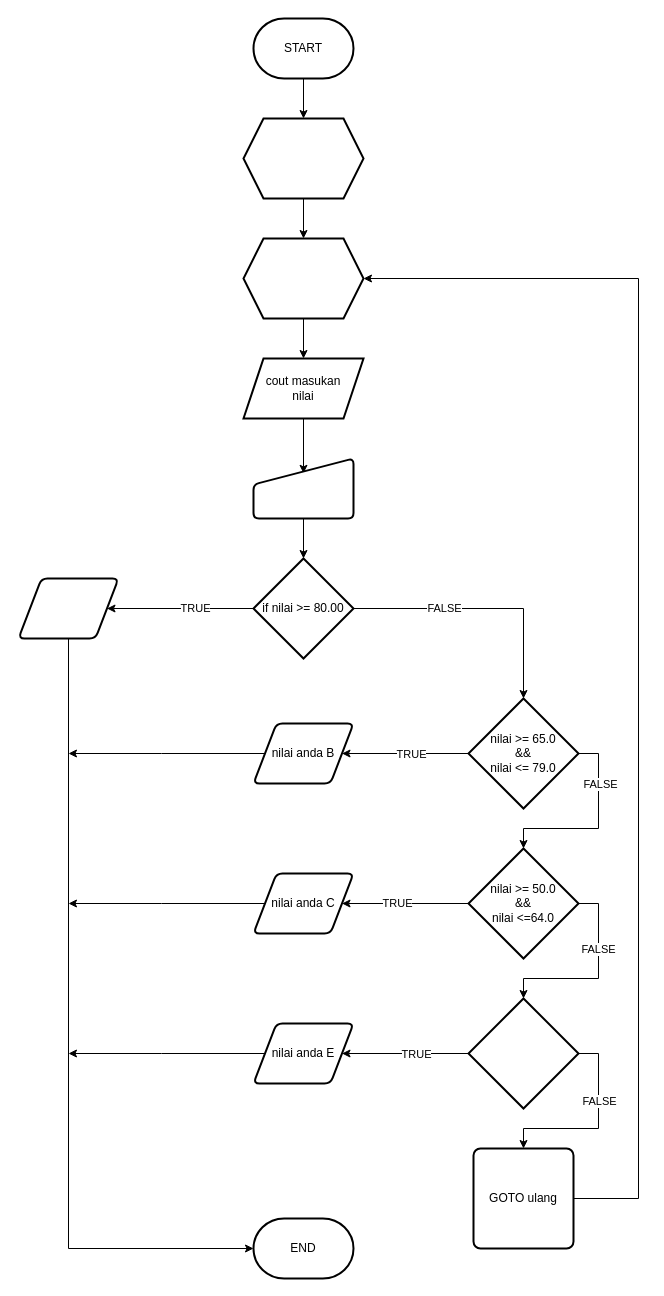
The diagram is 664 pixels wide and 1296 high, and some of its shapes have lost their labels. The shapes that lost their labels are listed below. From the top down, each one's box as (x1, y1, x2, y2) in pixels, then its label:
(242, 117, 364, 199): double nilai
(242, 237, 364, 319): ulang :
(252, 457, 354, 519): cin nilai
(17, 577, 119, 639): nilai anda A
(467, 997, 579, 1109): nilai >= 35.0 && nilai <= 49.0
